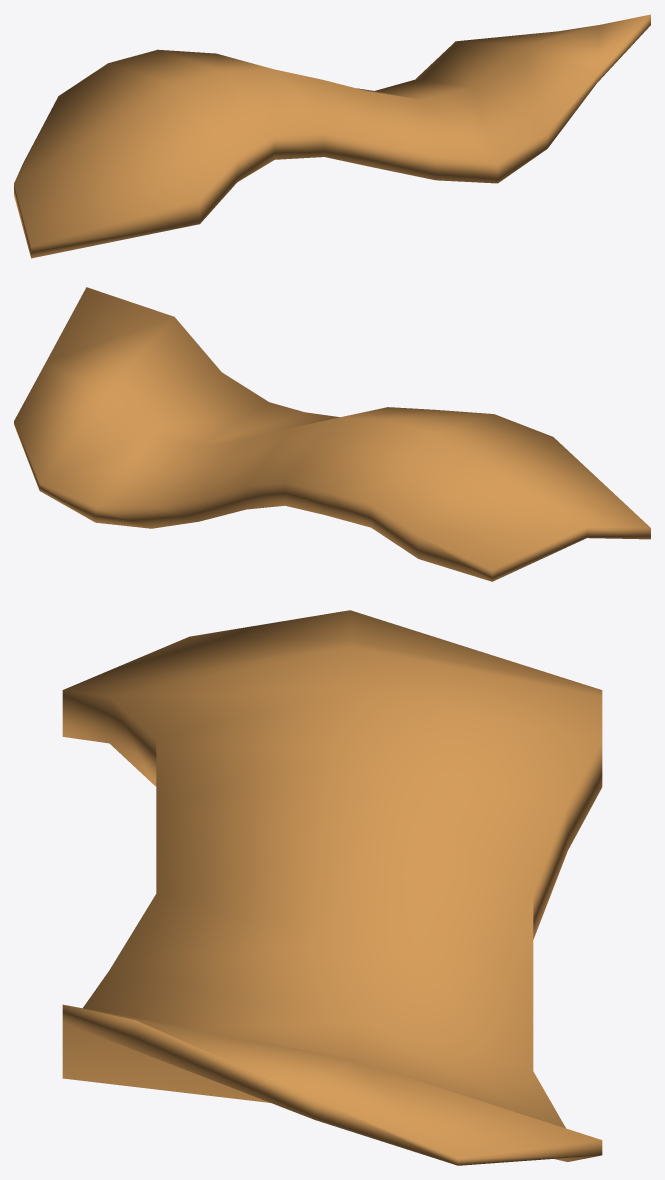
File: ScrapCloth3.fbx
The picture shows the model from 3 angles, top to bottom: view 1: azimuth 30°, elevation 25°; view 2: azimuth 150°, elevation 25°; view 3: azimuth 270°, elevation 25°; orthographic projection. The views are drawn at different scales.
Parts seen in each view (by area): view 1: Cube; view 2: Cube; view 3: Cube.
Part boxes in pixels (box(x1,y1,x2,y2)): Cube: box(14, 14, 650, 258); Cube: box(14, 287, 650, 581); Cube: box(62, 610, 602, 1165).
Size of the model in its own units: 203 by 43.35 by 82.27.
